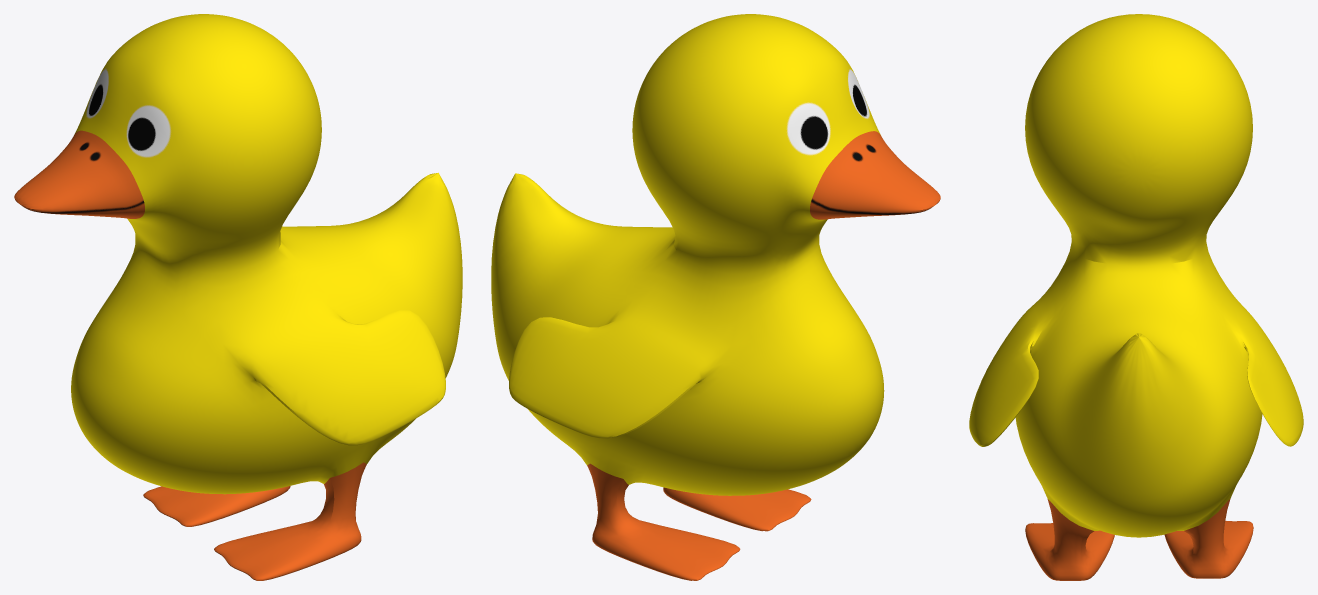
The model's file is Baby Duck.fbx.
The picture shows the model from 3 angles, left to right: view 1: azimuth 30°, elevation 25°; view 2: azimuth 150°, elevation 25°; view 3: azimuth 270°, elevation 25°; orthographic projection. The views are drawn at different scales.
Visible parts, largest first — view 1: Object_4.002, Object_5.001; view 2: Object_4.002, Object_5.001; view 3: Object_4.002, Object_5.001.
Boxes of the visible parts, <box> form: Object_4.002: <box>71,14,462,494</box>; Object_5.001: <box>14,130,366,580</box>; Object_4.002: <box>491,14,884,495</box>; Object_5.001: <box>587,131,940,580</box>; Object_4.002: <box>969,14,1303,537</box>; Object_5.001: <box>1025,499,1253,580</box>.
Size of the model in its own units: 0.5001 by 0.5649 by 0.3401.
Materials: 2 (2 with a texture image).
